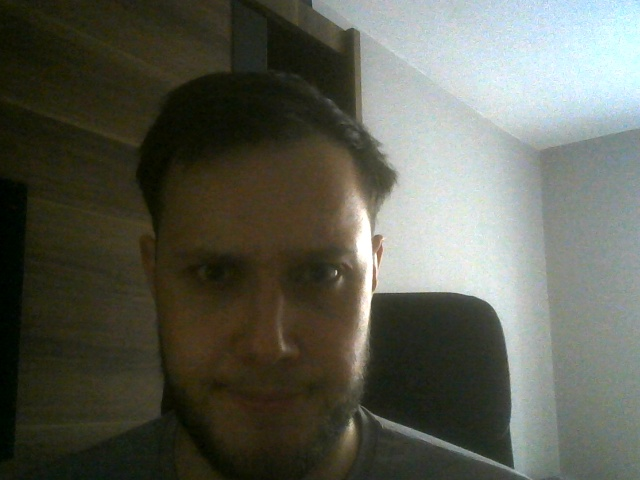angry: (136, 69, 384, 473)
